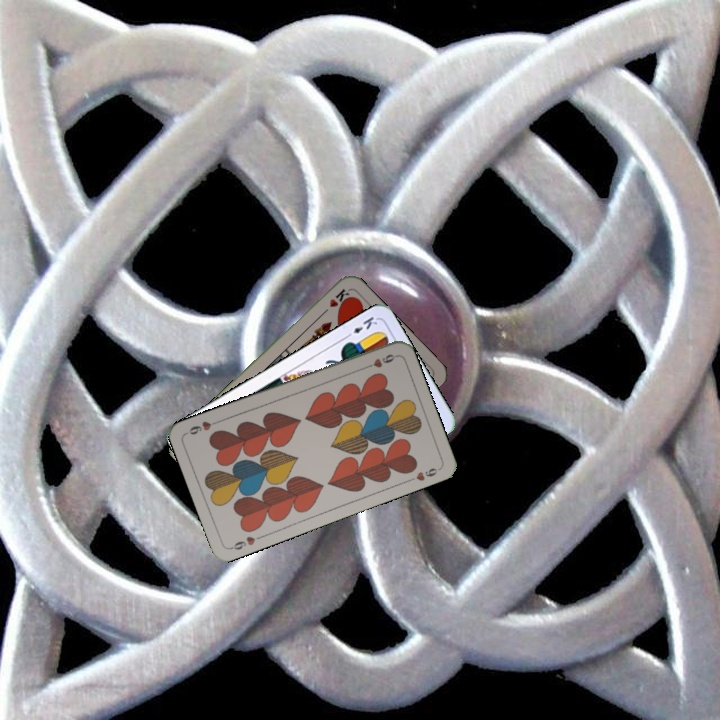EK: (341, 312, 380, 341)
H9: (360, 350, 399, 372), (226, 532, 258, 553)
HK: (318, 285, 352, 318)
